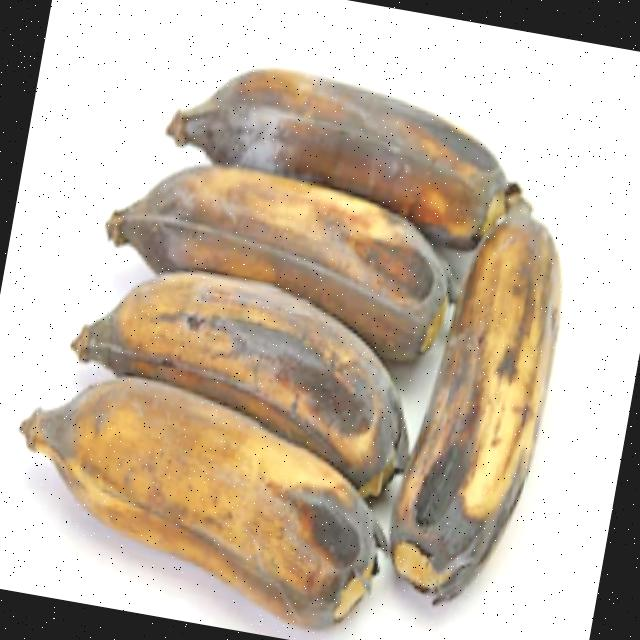rotten banana: (8, 12, 624, 640)
